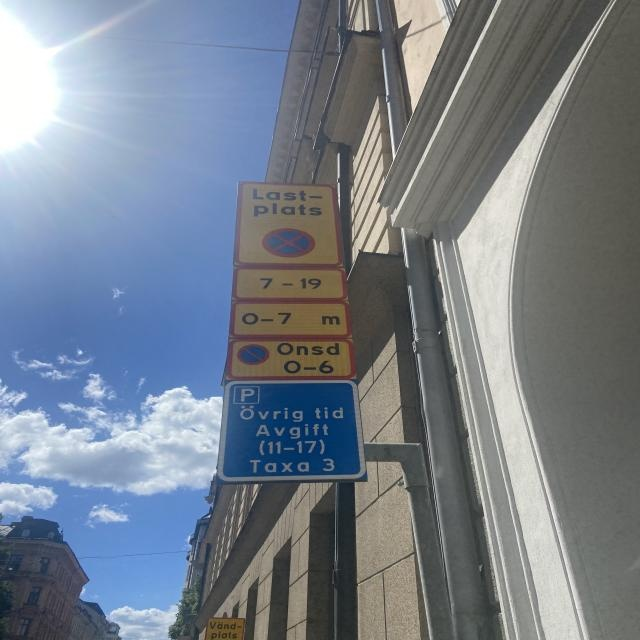lastplats: (232, 181, 338, 270)
